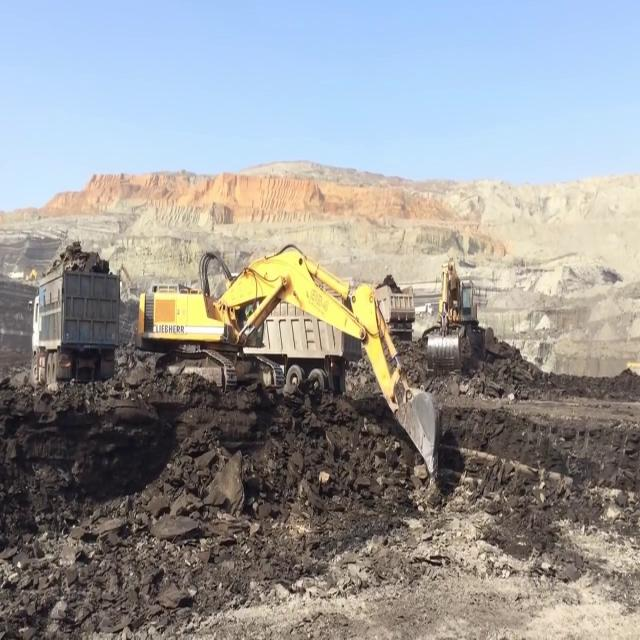excavator: (133, 245, 433, 492)
